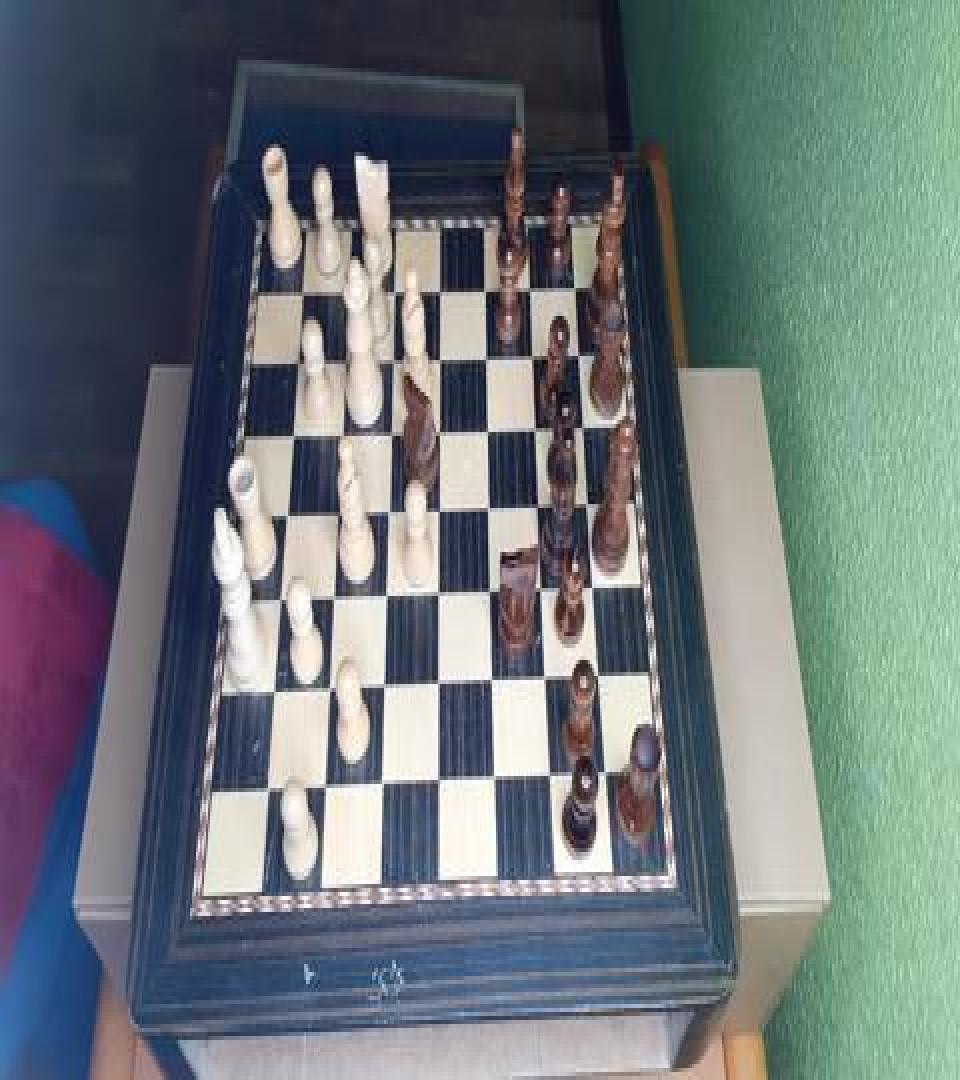xcorner: (567, 268, 581, 296), (522, 270, 536, 298), (476, 270, 490, 298), (430, 272, 444, 300), (384, 272, 398, 300), (337, 274, 351, 302), (290, 274, 304, 302), (572, 338, 586, 366), (525, 338, 539, 366), (478, 340, 492, 368), (430, 340, 444, 368), (382, 342, 396, 370), (334, 344, 348, 372), (285, 344, 299, 372), (577, 410, 591, 438), (528, 412, 542, 440), (479, 414, 493, 442), (430, 416, 444, 444), (381, 416, 395, 444), (331, 418, 345, 446), (280, 420, 294, 448), (582, 488, 596, 516), (532, 490, 546, 518), (481, 492, 495, 520), (430, 494, 444, 522), (379, 496, 393, 524), (327, 498, 341, 526), (275, 500, 289, 528), (588, 574, 602, 602), (536, 576, 550, 604), (483, 578, 497, 606), (430, 580, 444, 608), (377, 582, 391, 610), (323, 584, 337, 612), (269, 588, 283, 616), (594, 664, 608, 692), (540, 666, 554, 694), (485, 670, 499, 698), (430, 672, 444, 700), (375, 674, 389, 702), (319, 678, 333, 706), (263, 680, 277, 708), (600, 762, 614, 790), (544, 766, 558, 794), (487, 768, 501, 796), (430, 772, 444, 800), (373, 774, 387, 802), (315, 778, 329, 806), (256, 782, 270, 810)
